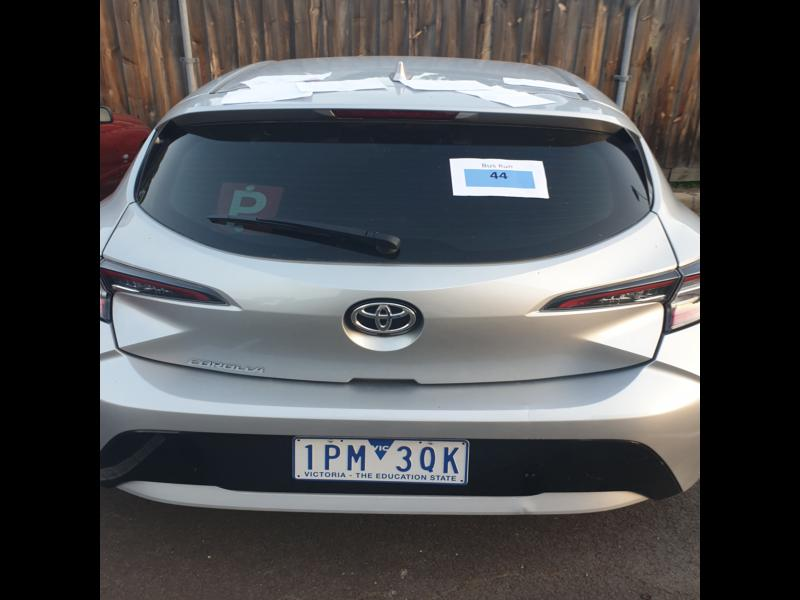BusRun: (463, 168, 536, 189)
PlateNo: (295, 433, 471, 483)
